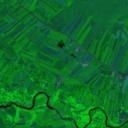alloviz: (56, 39, 66, 49)
